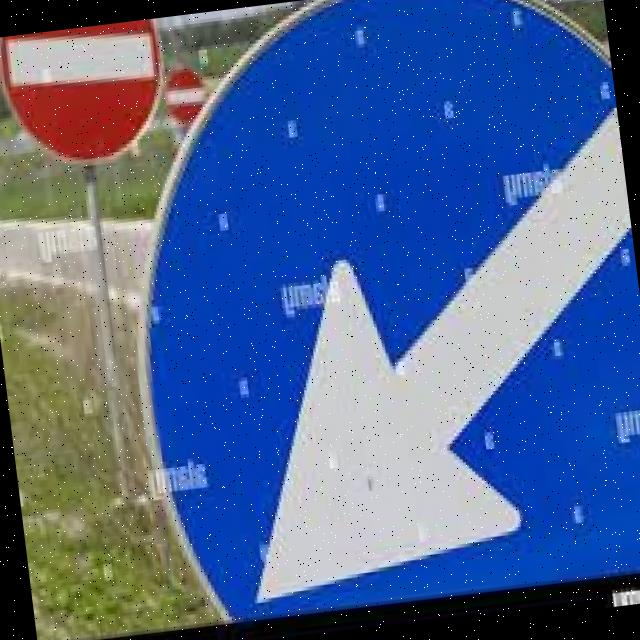compulsory_keep_right: (122, 0, 640, 622)
